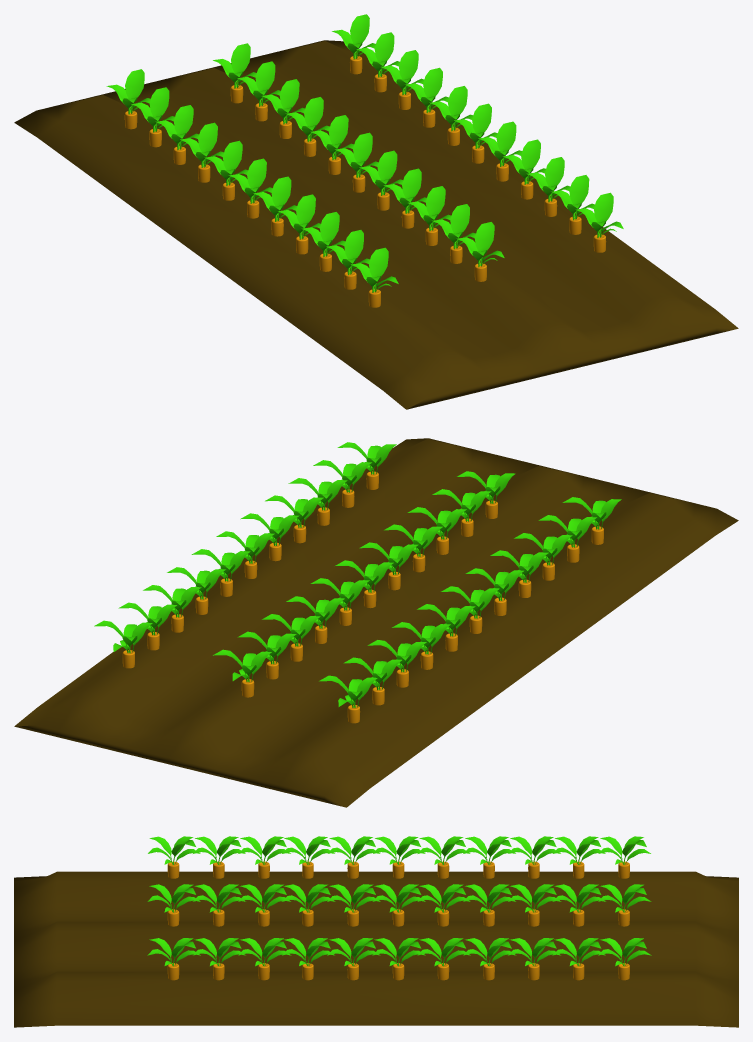
Rendered from niwa.fbx.
The picture shows the model from 3 angles, top to bottom: view 1: azimuth 30°, elevation 25°; view 2: azimuth 150°, elevation 25°; view 3: azimuth 270°, elevation 25°; orthographic projection. The views are drawn at different scales.
Visible parts, largest first — view 1: soil; view 2: soil; view 3: soil.
Part boxes in pixels (<box>): soil: <box>14,40,738,409</box>; soil: <box>14,438,738,807</box>; soil: <box>14,871,738,1027</box>.
Bounding box in the file's own units: 274 × 57.33 × 560.
